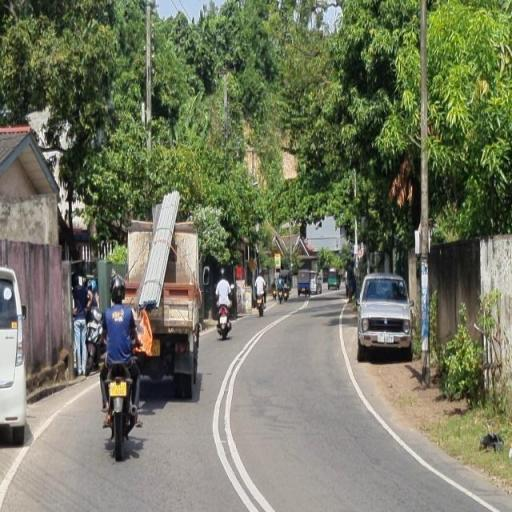double_white_line: (335, 309, 498, 511), (211, 305, 275, 512)
